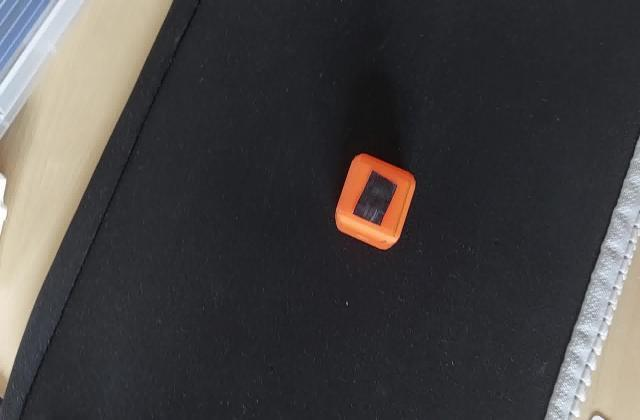black: (350, 170, 404, 222)
sticker: (332, 152, 417, 256)
